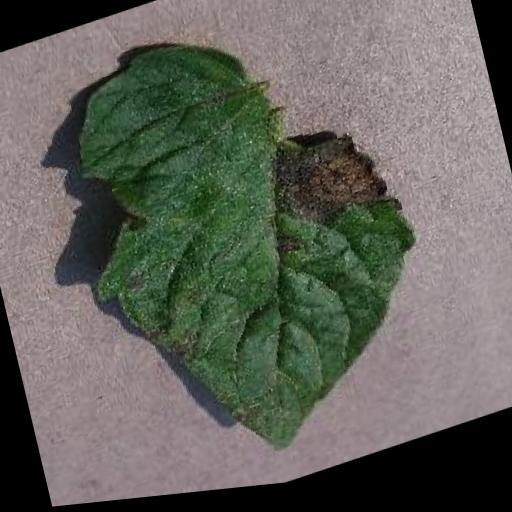Late Blight: (48, 0, 456, 506)
